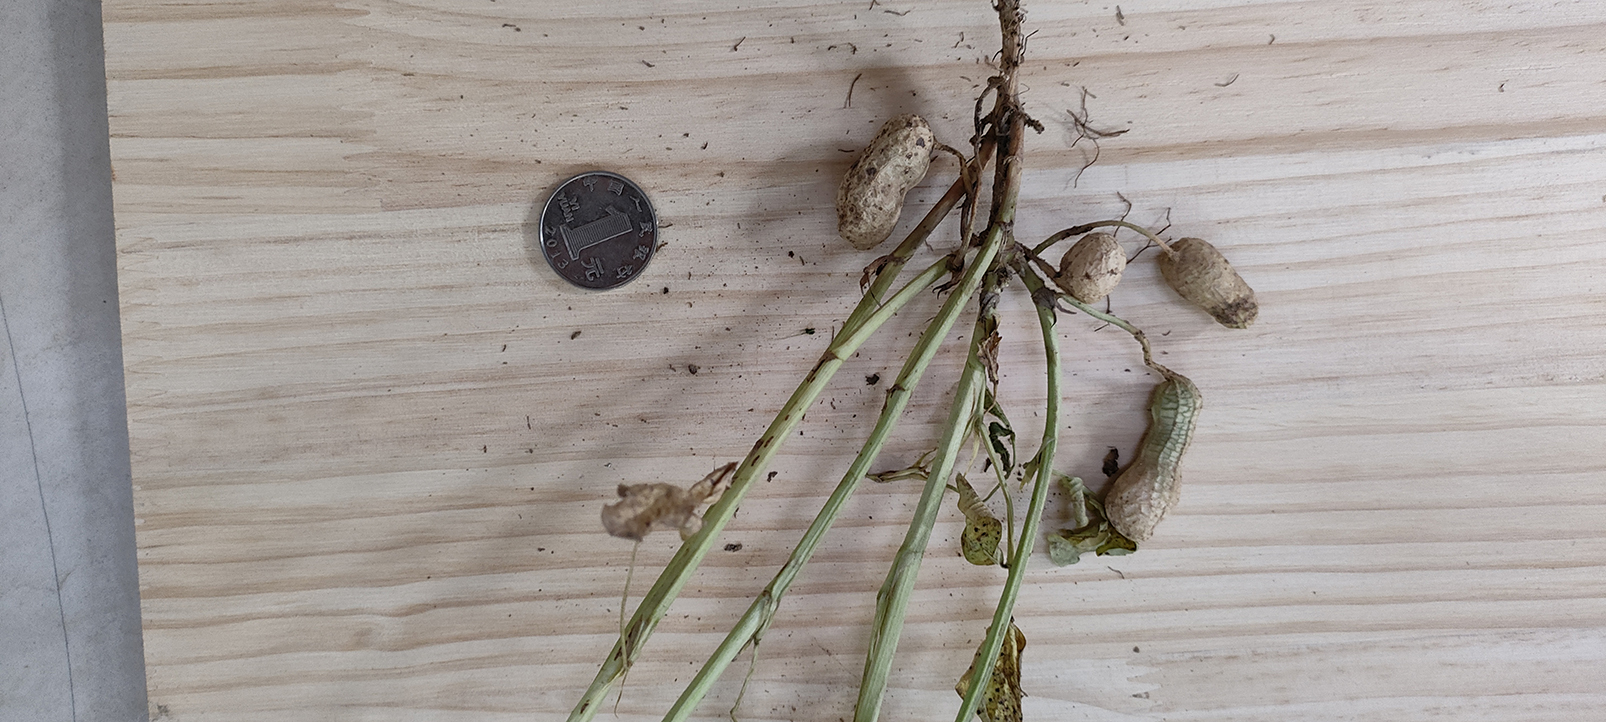h: (1097, 369, 1201, 543), (841, 116, 938, 247), (1159, 236, 1260, 330), (1060, 231, 1125, 306)
